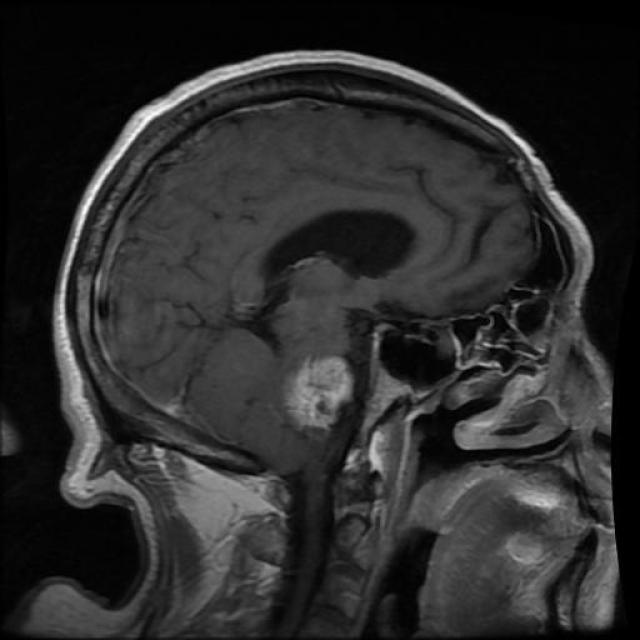meningioma: (288, 356, 352, 429)
